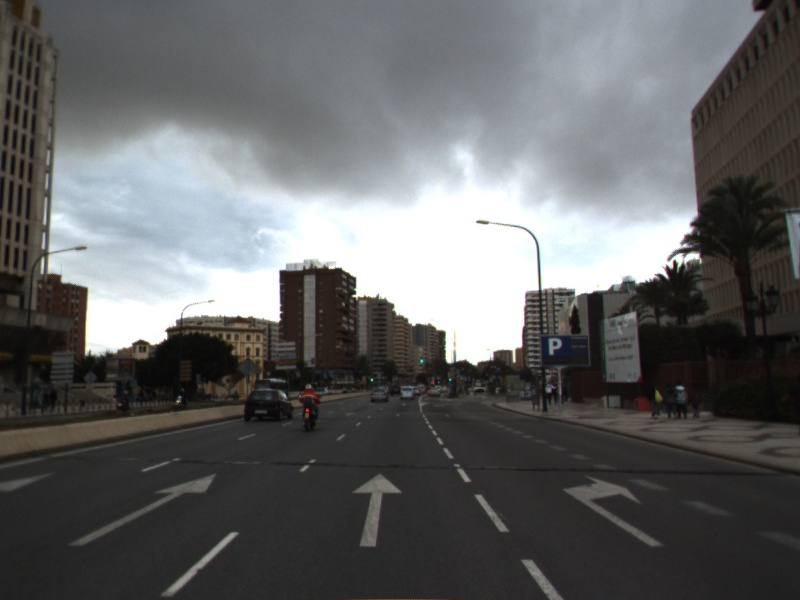RIGHT: (560, 473, 669, 550)
STRAIGHT: (65, 470, 221, 549), (349, 470, 406, 548)
